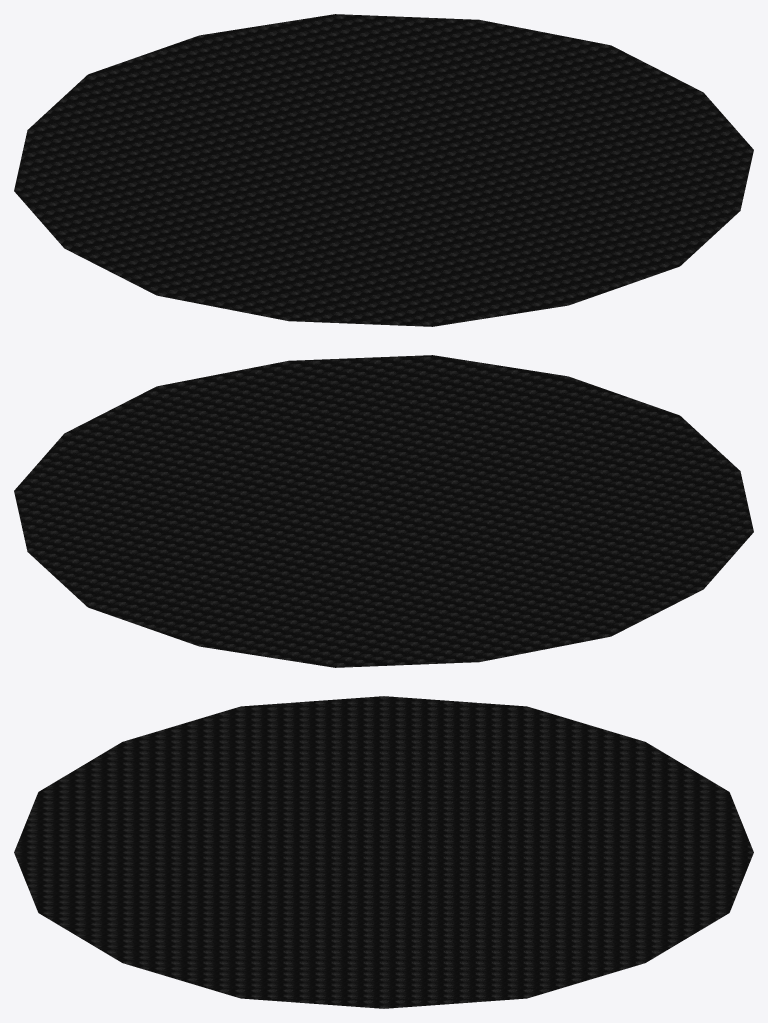
The model's file is sea.dae.
3 renders of one model, top to bottom at view 1: azimuth 30°, elevation 25°; view 2: azimuth 150°, elevation 25°; view 3: azimuth 270°, elevation 25°, orthographic.
Visible parts, largest first — view 1: m0; view 2: m0; view 3: m0.
Boxes of the visible parts, <box> form: m0: <box>14,14,753,326</box>; m0: <box>14,355,753,667</box>; m0: <box>14,696,753,1008</box>.
Size of the model in its own units: 541510 by 0 by 541510.
